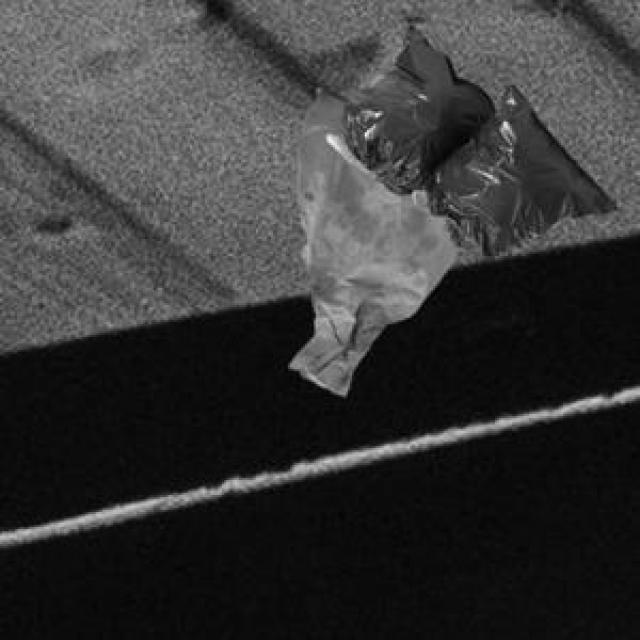miscellaneous trash: (322, 21, 612, 252)
paper: (286, 85, 454, 393)
